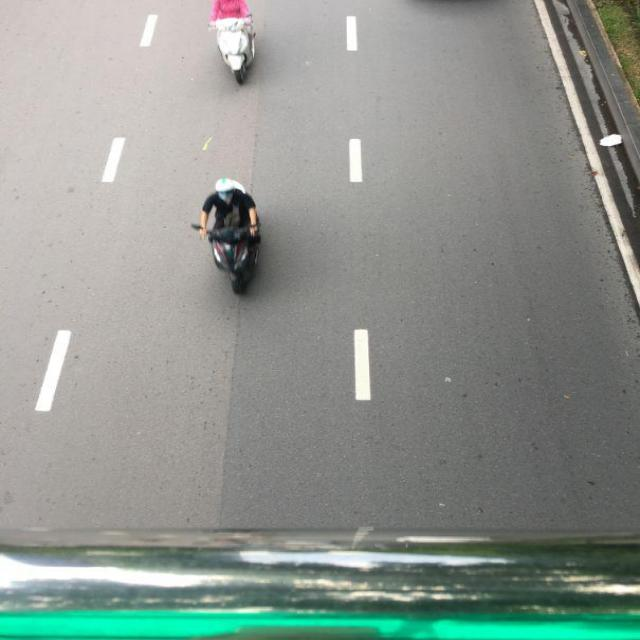motorcycle: (210, 13, 268, 86), (209, 220, 261, 296)
